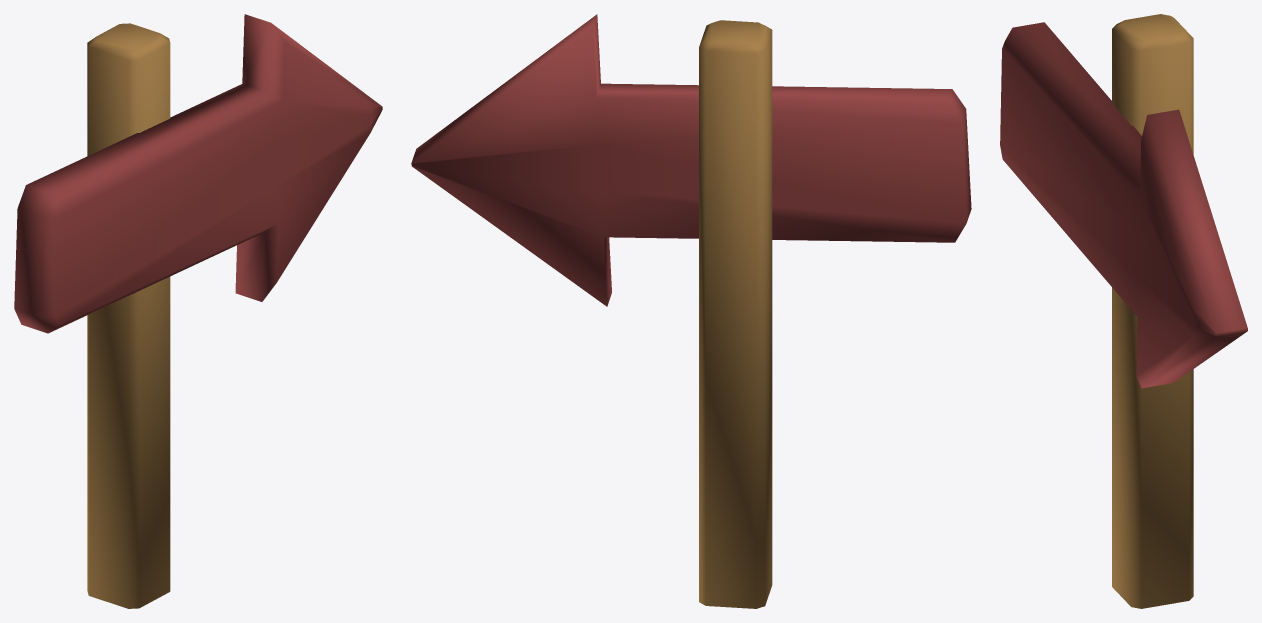
Rendered from Arrow_Side.gltf.
The picture shows the model from 3 angles, left to right: view 1: azimuth 30°, elevation 25°; view 2: azimuth 150°, elevation 25°; view 3: azimuth 270°, elevation 25°; orthographic projection.
Visible parts, largest first — view 1: Arrow_Side; view 2: Arrow_Side; view 3: Arrow_Side.
Part boxes in pixels (box(x1,y1,x2,y2)): Arrow_Side: box(14, 14, 382, 608); Arrow_Side: box(411, 14, 971, 608); Arrow_Side: box(1000, 14, 1247, 608).
Bounding box in the file's own units: 1.77 × 2.05 × 0.8173.
